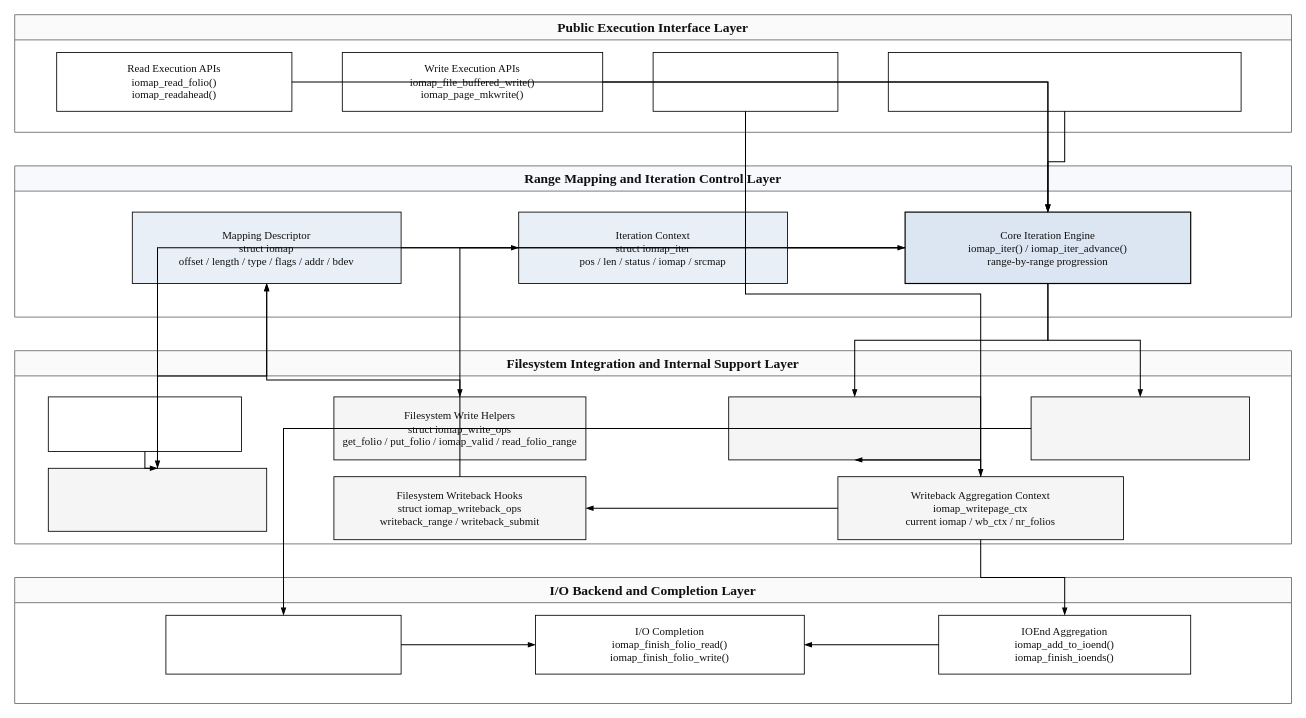
Some shapes in this 1306 by 718 pixel diagram are drawn without their labels. Here are the shapes that lost their labels. From the top down, the centre of each, then its label:
(745,81): Writeback API iomap_writepages()
(1064,81): Other Public Consumers direct I/O / fiemap / seek / unshare / zero_range
(144,424): F2FS Implementation f2fs_iomap_begin()
(854,428): Per-Folio State iomap_folio_state uptodate bitmap / dirty bitmap / pending bytes
(1140,428): Read Submission Backend struct iomap_read_ops read_folio_range / submit_read
(157,499): Filesystem Mapping Hooks struct iomap_ops iomap_begin / iomap_end
(283,644): BIO Read Backend bio.c submit_bio() / end_io
